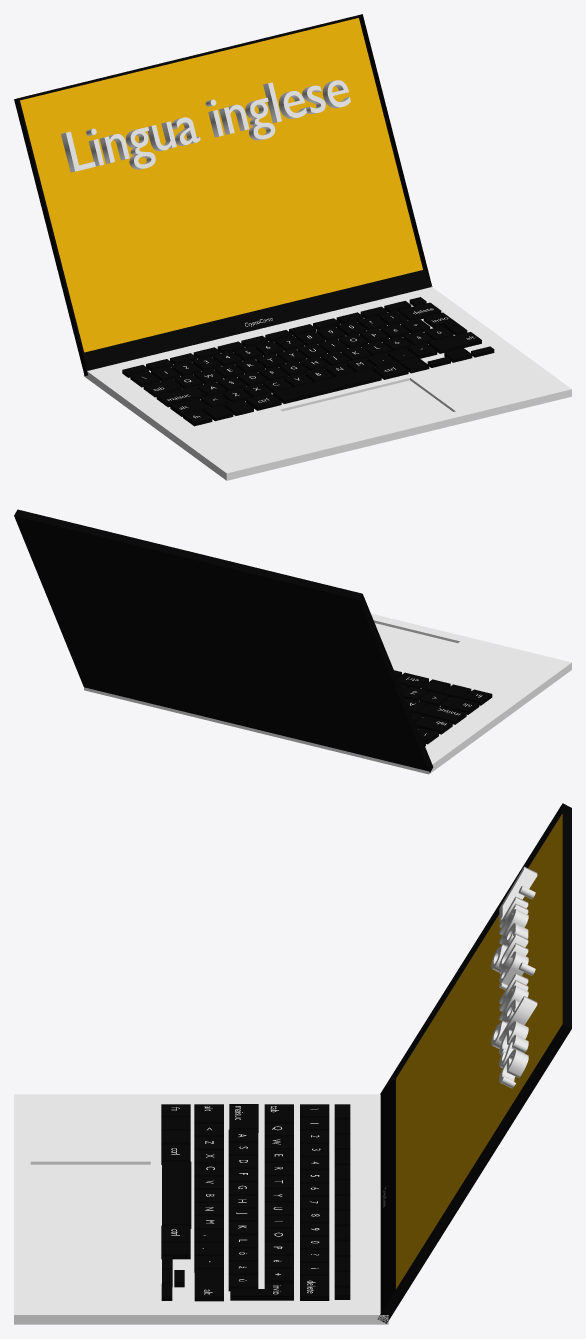
Rendered from inglese.glb.
3 renders of one model, top to bottom at view 1: azimuth 30°, elevation 25°; view 2: azimuth 150°, elevation 25°; view 3: azimuth 270°, elevation 25°, orthographic. The views are drawn at different scales.
Visible parts, largest first — view 1: Cube.073, Cube, Text, Cube.074, Cube.001, Cube.072, Cube.123; view 2: Cube.001, Cube, Cube.065, Cube.064, Cube.066, Cube.071; view 3: Cube, Cube.073, Cube.001, Text, Cube.074, Cube.072, Cube.123, Cube.065, Cube.027.
Part boxes in pixels (x1,y1,x2,y2): Cube.073: (20,18,422,352); Cube: (84,286,571,480); Text: (61,80,350,172); Cube.074: (82,269,431,370); Cube.001: (14,14,432,375); Cube.072: (272,368,381,403); Cube.123: (428,332,481,353); Cube.001: (14,509,433,772); Cube: (84,613,571,774); Cube.065: (417,703,466,724); Cube.064: (440,696,479,714); Cube.066: (415,716,452,734); Cube.071: (397,672,428,688); Cube: (14,1094,388,1324); Cube.073: (396,813,562,1288); Cube.001: (377,803,571,1323); Text: (491,866,537,1088); Cube.074: (380,1077,396,1313); Cube.072: (162,1161,191,1228); Cube.123: (194,1269,223,1301); Cube.065: (229,1104,258,1132); Cube.027: (300,1276,329,1300).
Size of the model in its own units: 6.79 by 4.31 by 7.25.
